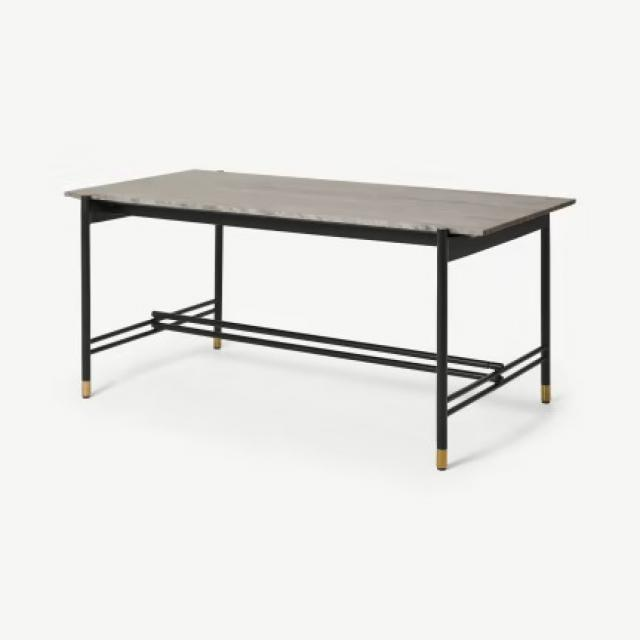Table: (26, 136, 618, 487)
